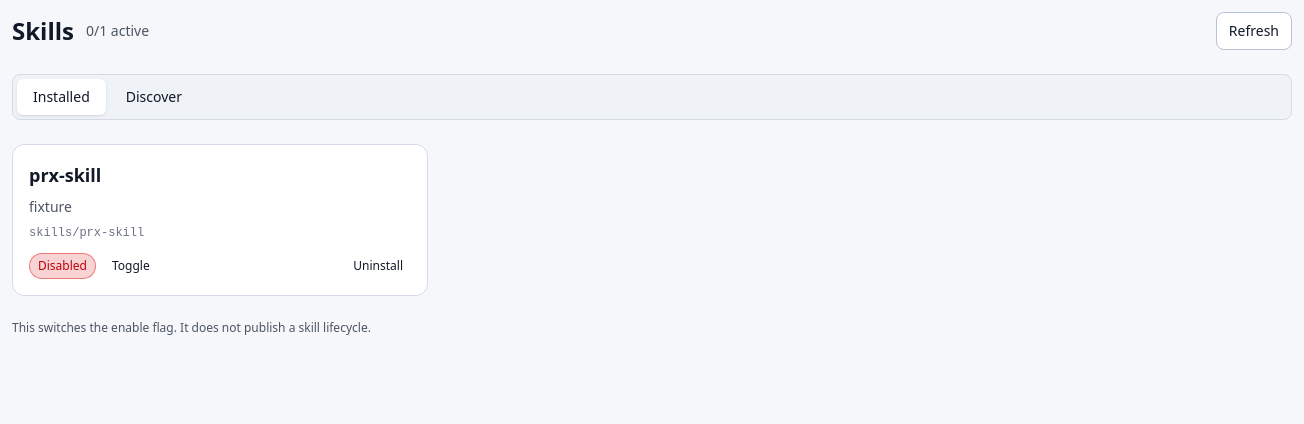
shows a denied toggle
What coordinates should you click on to do the following:
click the button with aria-label "Toggle prx-skill"
I would click on:
 (131, 266)
Its box is [104, 254, 158, 278].
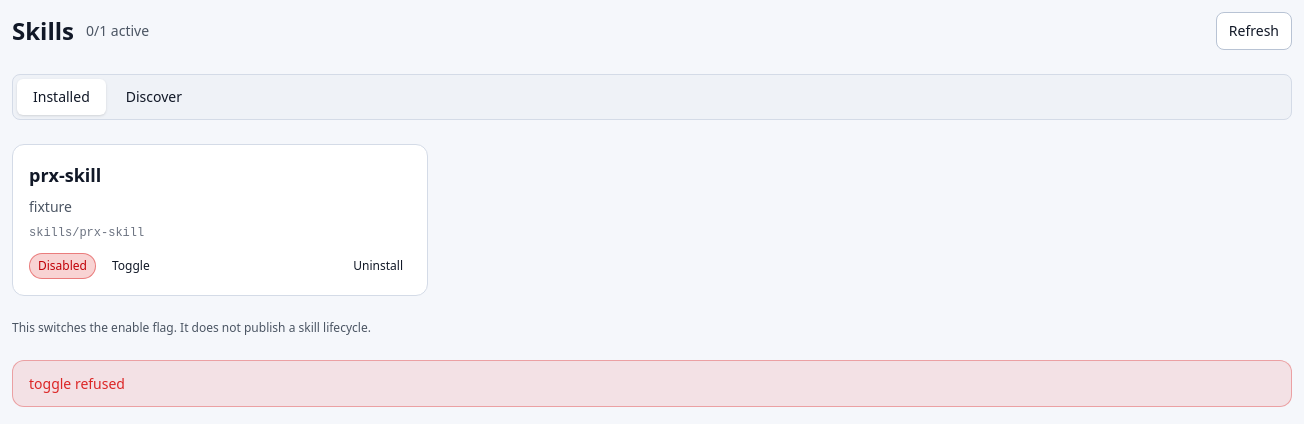
Check: the message reads "toggle refused", box [29, 374, 125, 393]
